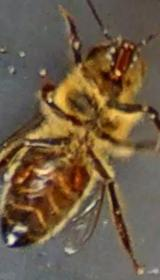varroa_mite: (62, 151, 100, 196), (10, 143, 41, 190)
